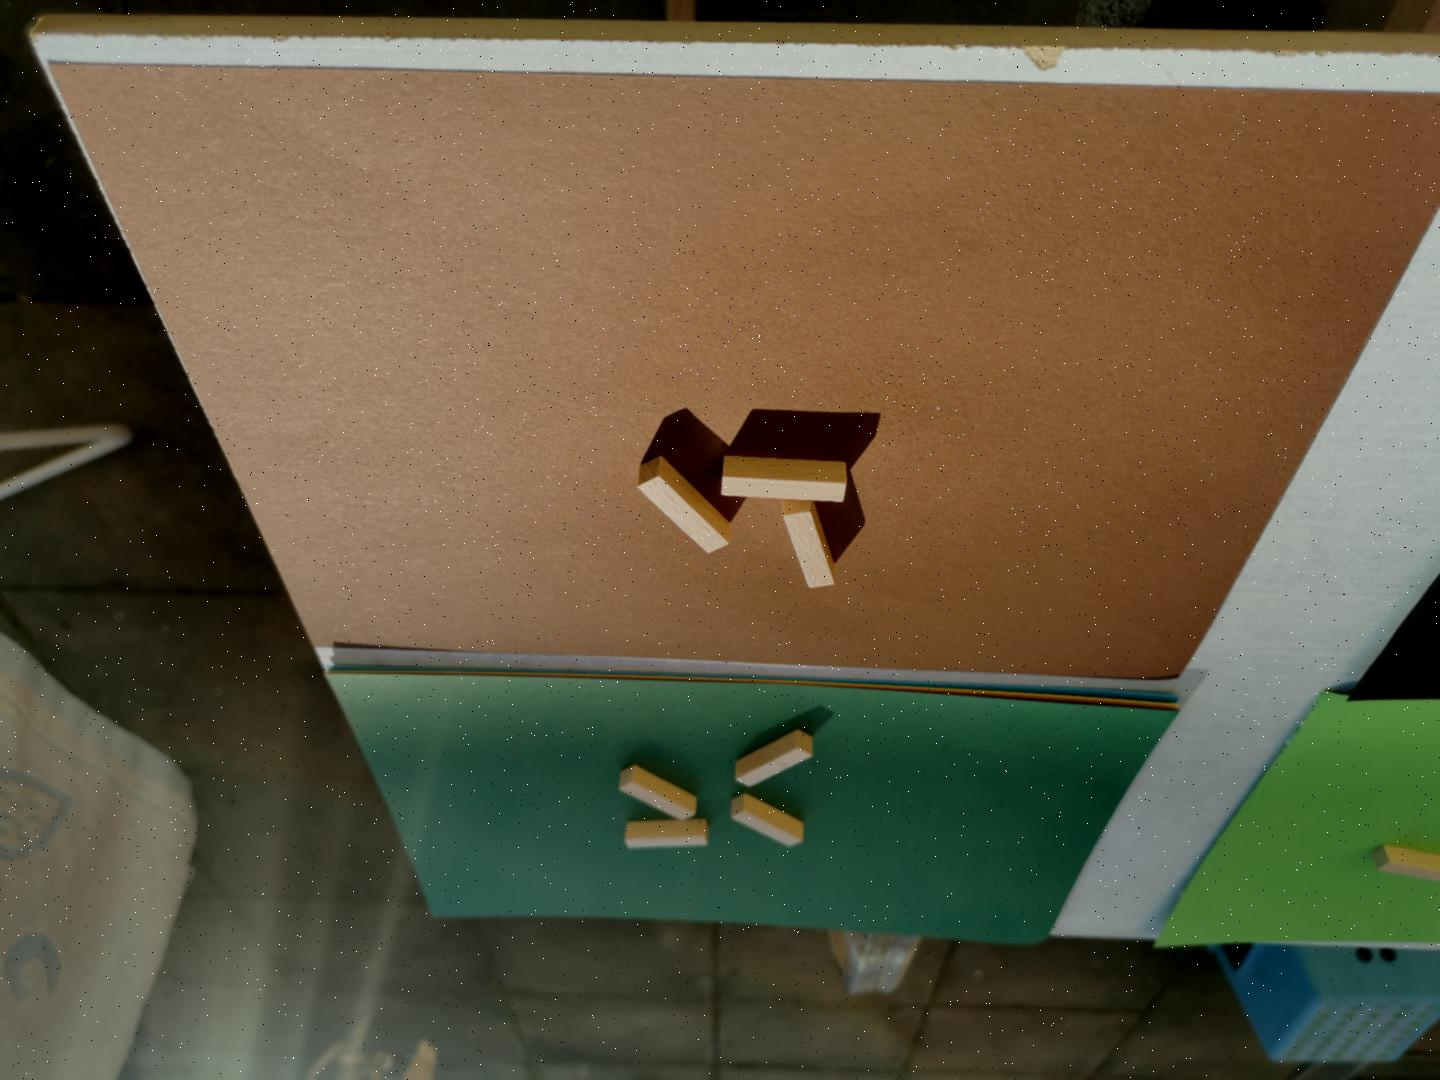jenga: (638, 456, 731, 554), (720, 456, 847, 500), (734, 728, 813, 787), (785, 498, 836, 588), (619, 765, 697, 818), (731, 793, 804, 846), (625, 818, 709, 850), (1372, 844, 1440, 880)
